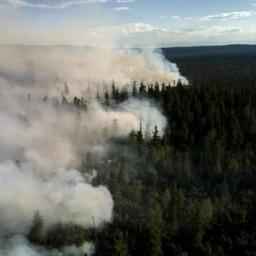Heavy smoke: (0, 0, 197, 255)
